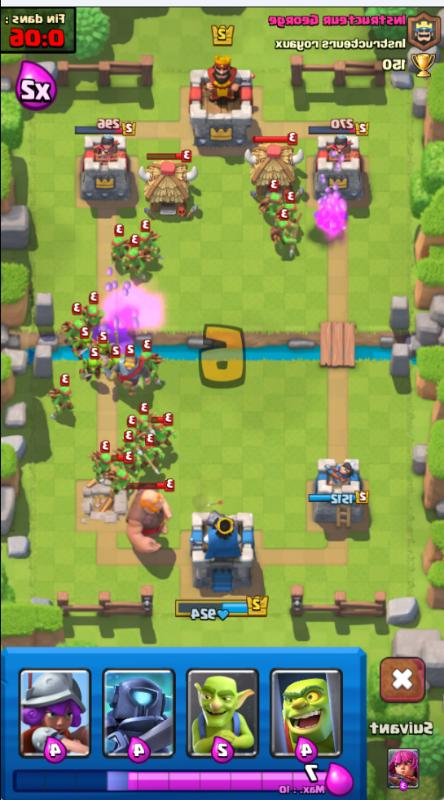chevalier: (111, 347, 149, 401)
geant: (118, 475, 178, 555)
gobelin: (71, 331, 94, 365), (93, 334, 116, 367), (81, 354, 105, 385), (109, 351, 128, 382)
gobelin_lances: (85, 443, 115, 485), (267, 219, 303, 254), (46, 382, 75, 421), (136, 228, 162, 266), (138, 344, 161, 386), (81, 297, 107, 333), (60, 318, 86, 351), (153, 416, 179, 449), (124, 245, 146, 282), (280, 190, 303, 224), (120, 446, 143, 479), (258, 188, 281, 221), (133, 406, 157, 437), (110, 466, 134, 494), (140, 443, 161, 473), (108, 234, 126, 265), (122, 429, 138, 457)
